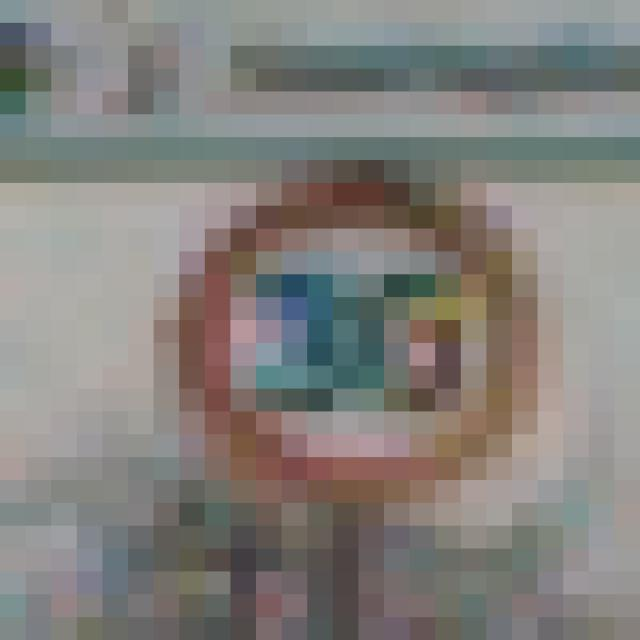Speed Limit -30-: (115, 126, 499, 491)
